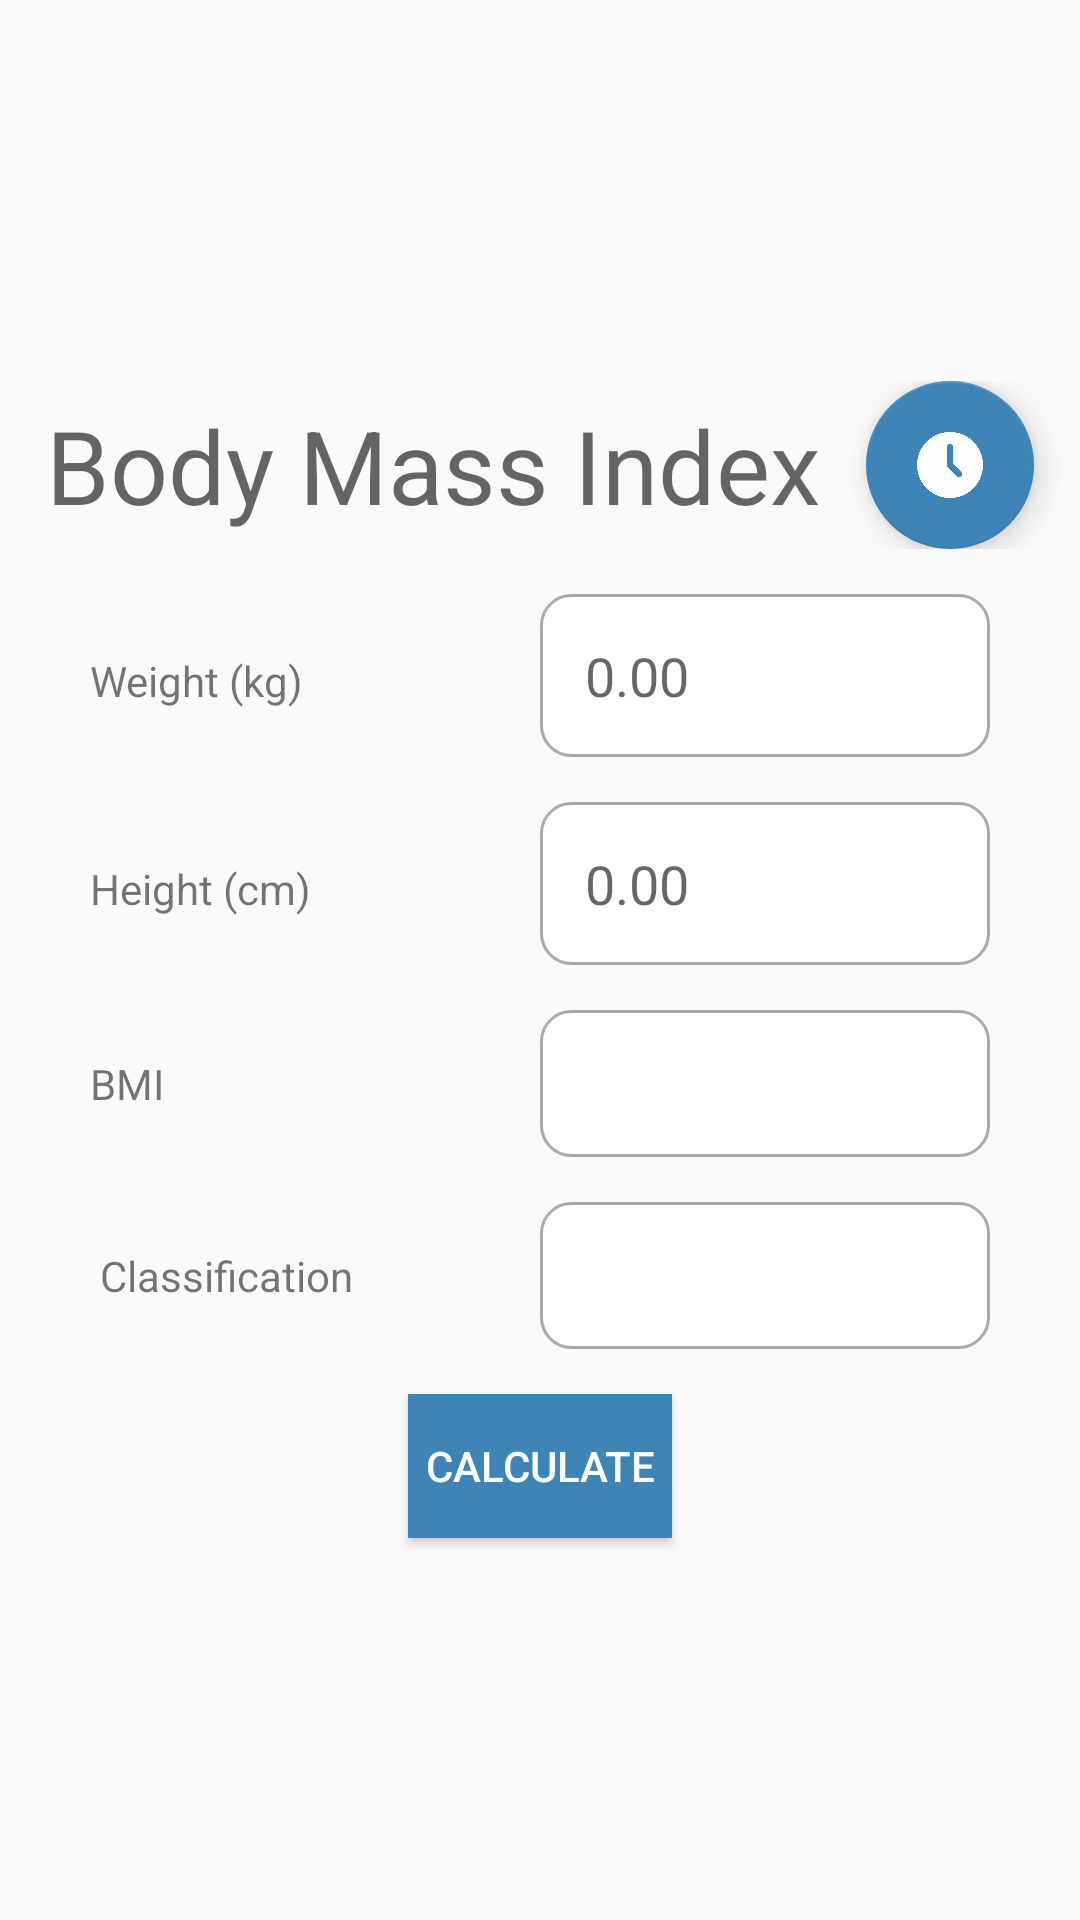

Screen size 1080px×1920px. Icon name, then its box in pixels as detection(x1, y1, x2, y2):
History: detection(866, 381, 1034, 549)
